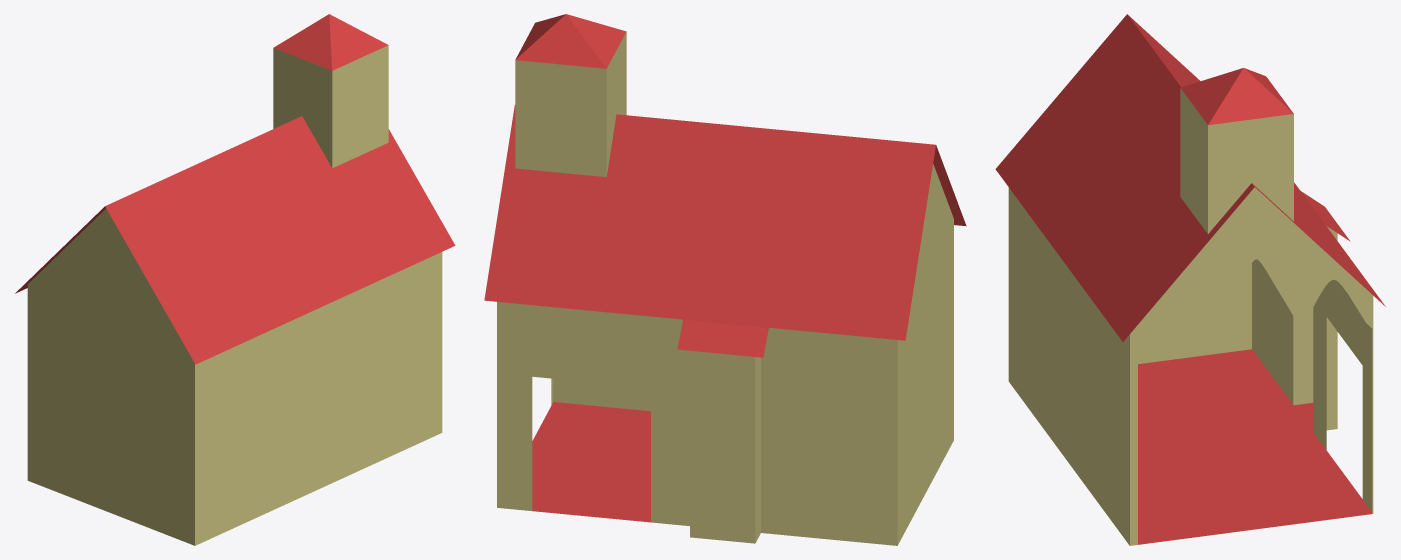
3 renders of one model, left to right at view 1: azimuth 30°, elevation 25°; view 2: azimuth 150°, elevation 25°; view 3: azimuth 270°, elevation 25°, orthographic. The views are drawn at different scales.
Size of the model in its own units: 23.55 by 18.73 by 23.47.
